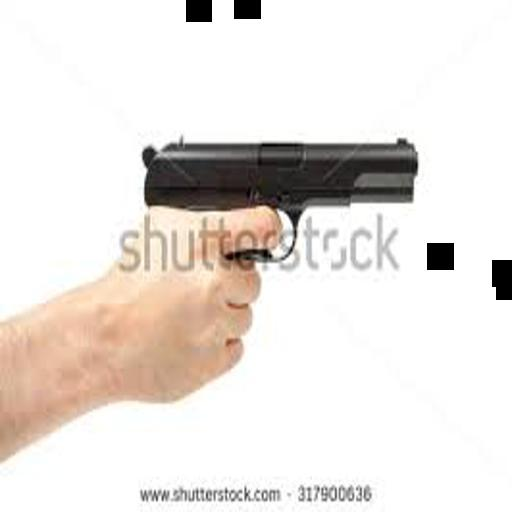Handgun: (131, 137, 420, 280)
